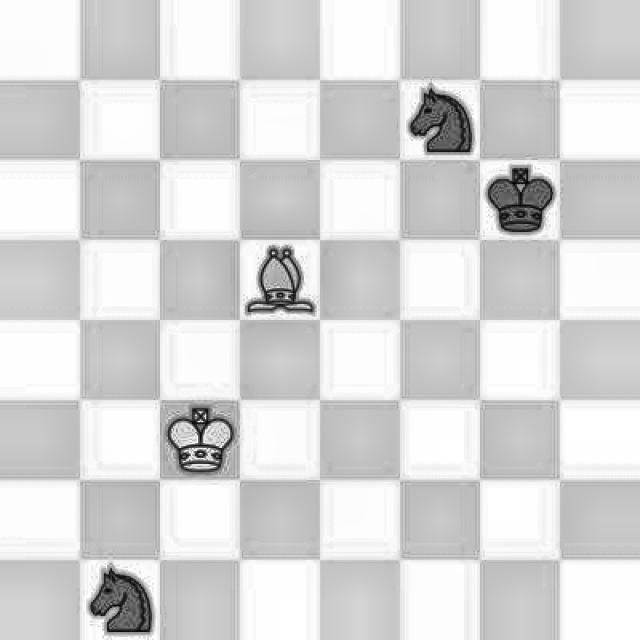Black Knight: (83, 560, 157, 640), (403, 88, 475, 158)
black king: (482, 163, 552, 237)
white bishop: (243, 243, 314, 318)
white king: (163, 402, 240, 476)
